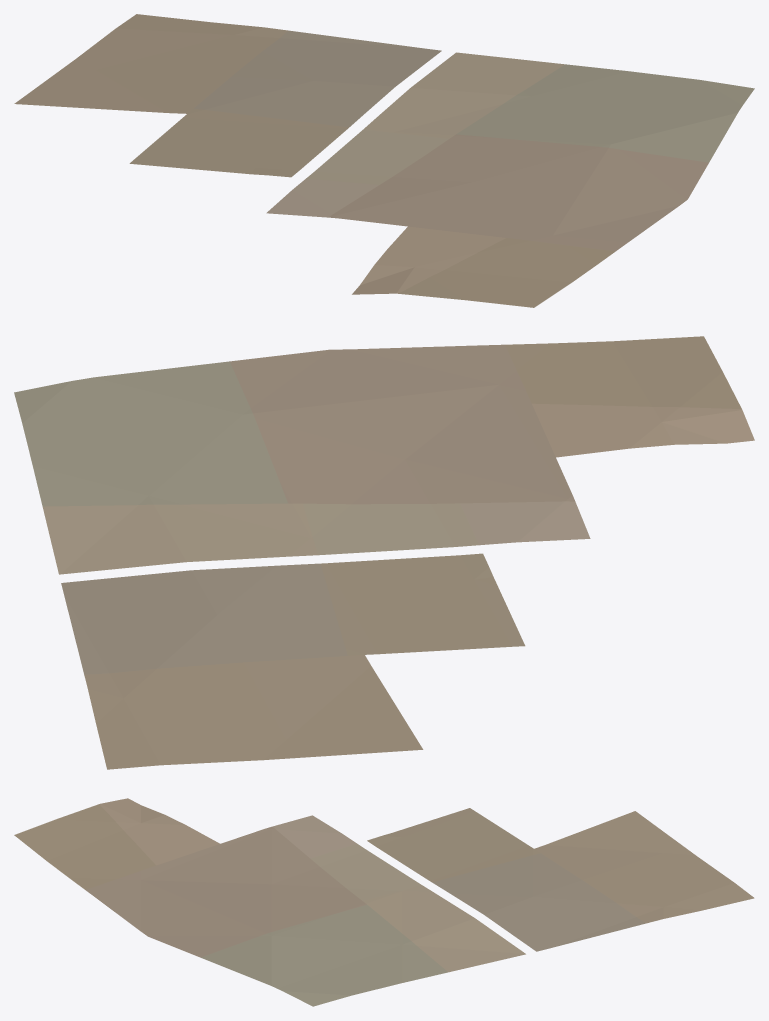
File: farm_-29_-22_soil.glb
3 views of the same model, one above another, from view 1: azimuth 30°, elevation 25°; view 2: azimuth 150°, elevation 25°; view 3: azimuth 270°, elevation 25° (orthographic). The views are drawn at different scales.
Visible parts, largest first — view 1: geometry_0; view 2: geometry_0; view 3: geometry_0.
Part boxes in pixels (x1,y1,x2,y2): geometry_0: (14, 14, 754, 307); geometry_0: (14, 336, 754, 769); geometry_0: (14, 798, 754, 1006).
Size of the model in its own units: 315 by 27.91 by 454.
